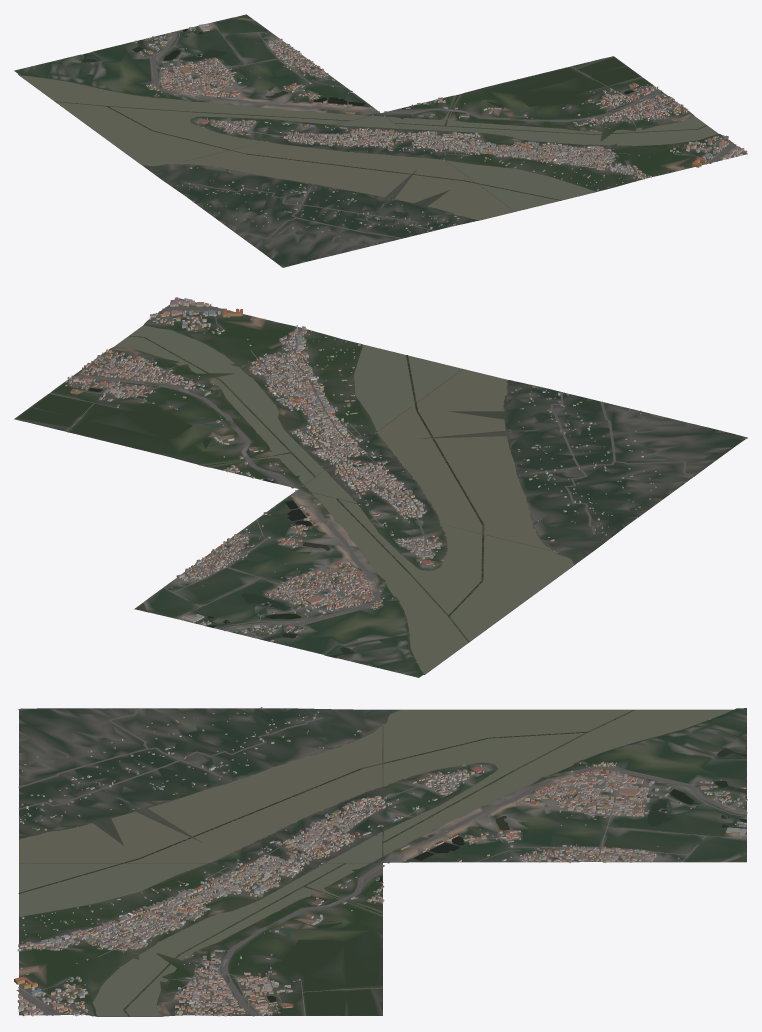
3 renders of one model, top to bottom at view 1: azimuth 30°, elevation 25°; view 2: azimuth 150°, elevation 25°; view 3: azimuth 270°, elevation 25°, orthographic. The views are drawn at different scales.
Visible parts, largest first — view 1: ground, water, buildings, roads; view 2: ground, water, buildings, roads; view 3: ground, water, buildings, roads.
Part boxes in pixels (x1,y1,x2,y2): ground: (14,17,747,267); water: (20,14,719,220); buildings: (132,23,747,246); roads: (142,23,736,267); ground: (14,298,747,677); water: (89,323,573,674); buildings: (65,297,660,641); roads: (49,307,747,638); ground: (19,708,746,1016); water: (18,709,746,1016); buildings: (14,707,747,1016); roads: (16,708,747,1016).
Bounding box in the file's own units: 2817 × 25.19 × 2827.
